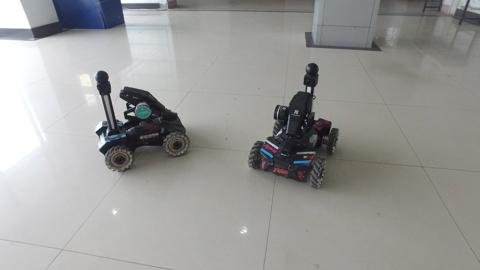chariot: (243, 61, 343, 194), (87, 68, 195, 177)
